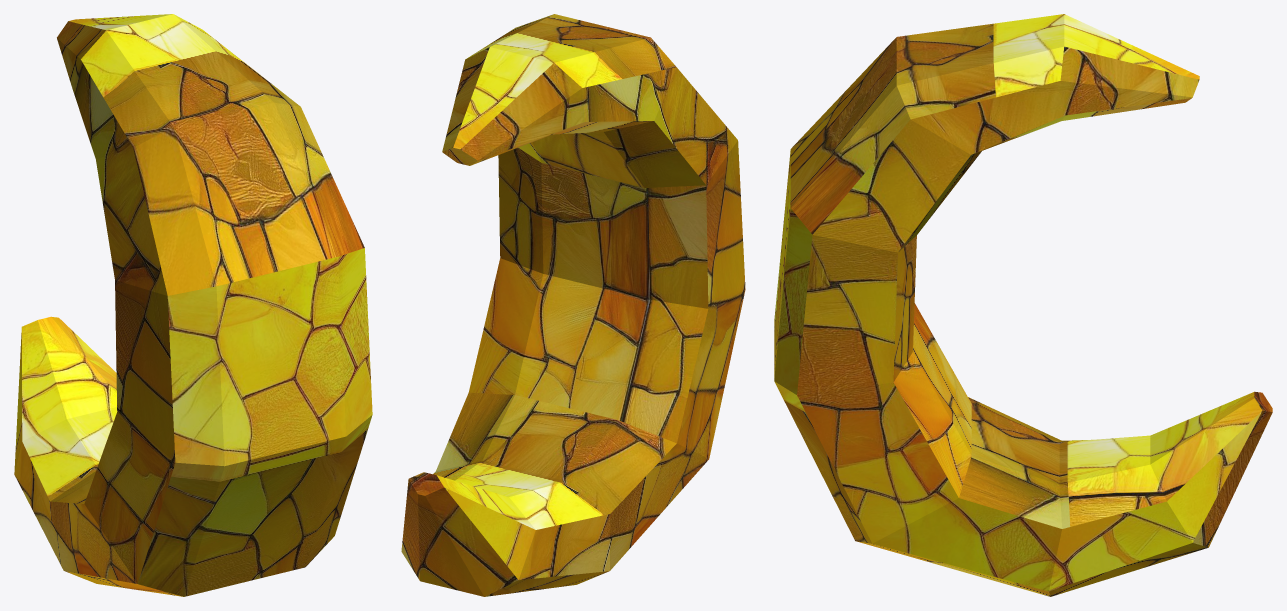
Rendered from gemstone9YellowCompressed.glb.
3 renders of one model, left to right at view 1: azimuth 30°, elevation 25°; view 2: azimuth 150°, elevation 25°; view 3: azimuth 270°, elevation 25°, orthographic. The views are drawn at different scales.
Parts seen in each view (by area): view 1: gemstoneMoon; view 2: gemstoneMoon; view 3: gemstoneMoon.
Part boxes in pixels (left/top/right/bottom): gemstoneMoon: left=14, top=14, right=372, bottom=596; gemstoneMoon: left=401, top=14, right=745, bottom=596; gemstoneMoon: left=774, top=14, right=1272, bottom=596.
Size of the model in its own units: 0.5 by 1.2 by 1.
Materials: 1 (1 with a texture image).
